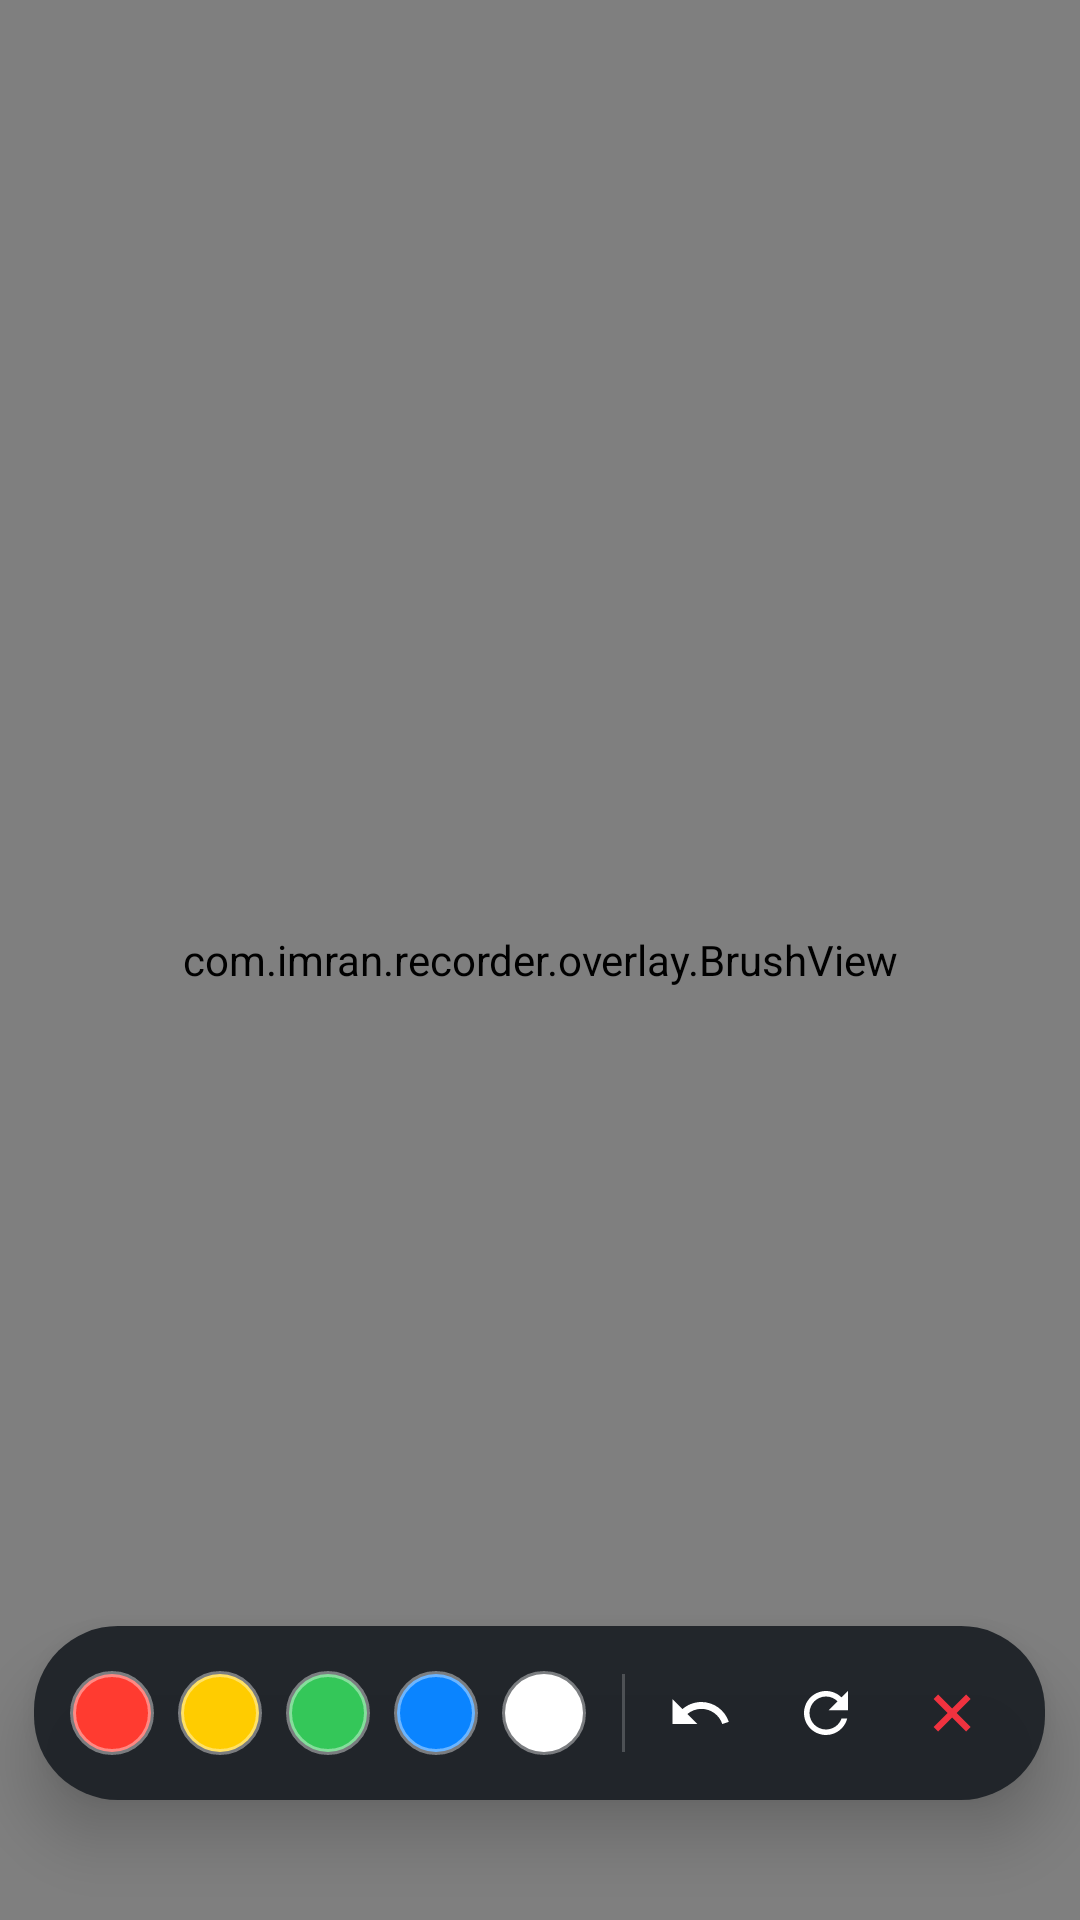

Where icons sit on this 1080×1920 app screen, as (x1,y1,x2,y2):
Undo: (672,1699,729,1724)
